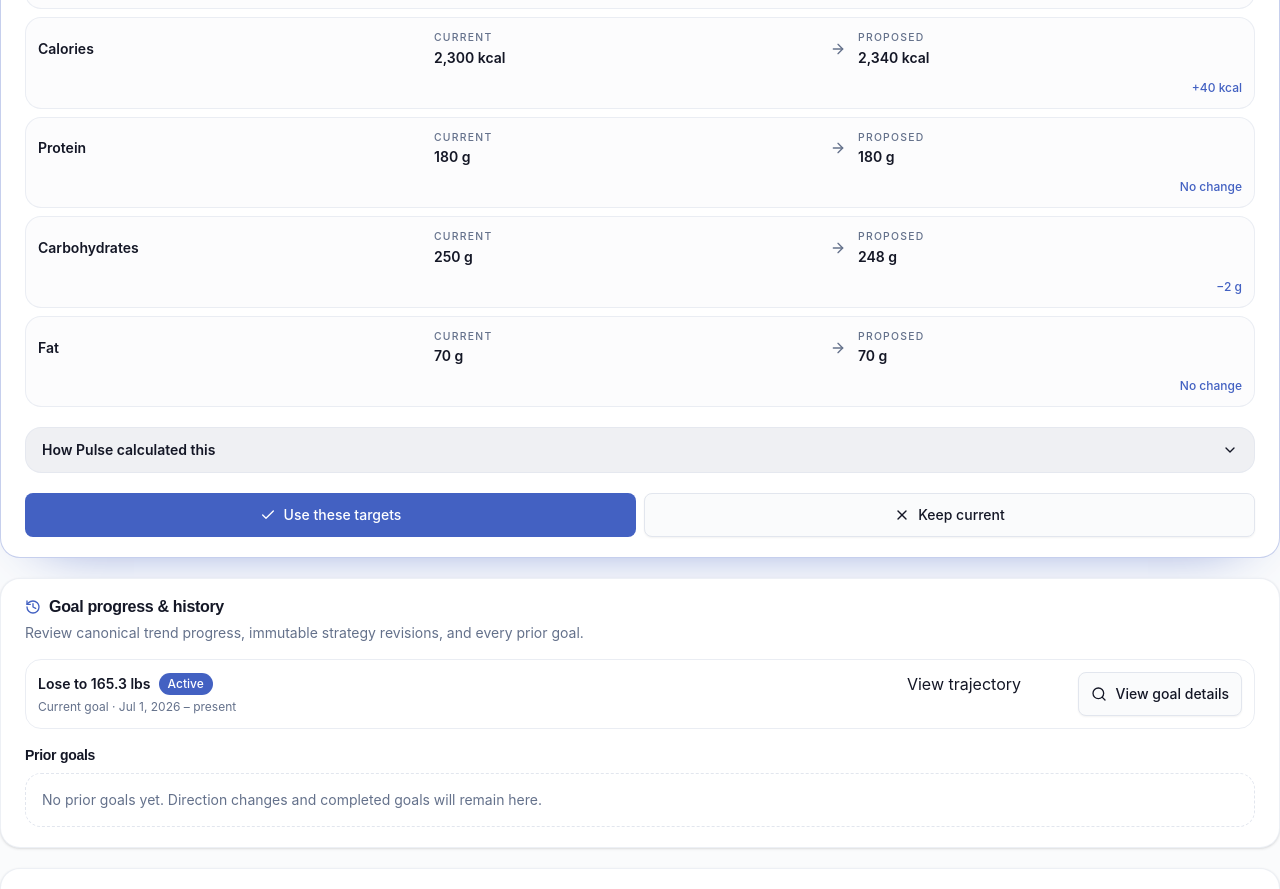
Test: AdaptiveCoach › discloses a manual baseline without inventing equation inputs
(page scrolled)
Click the heading "How Pulse calculated this": (129, 450) top-left (42, 441), bottom-right (1238, 458)
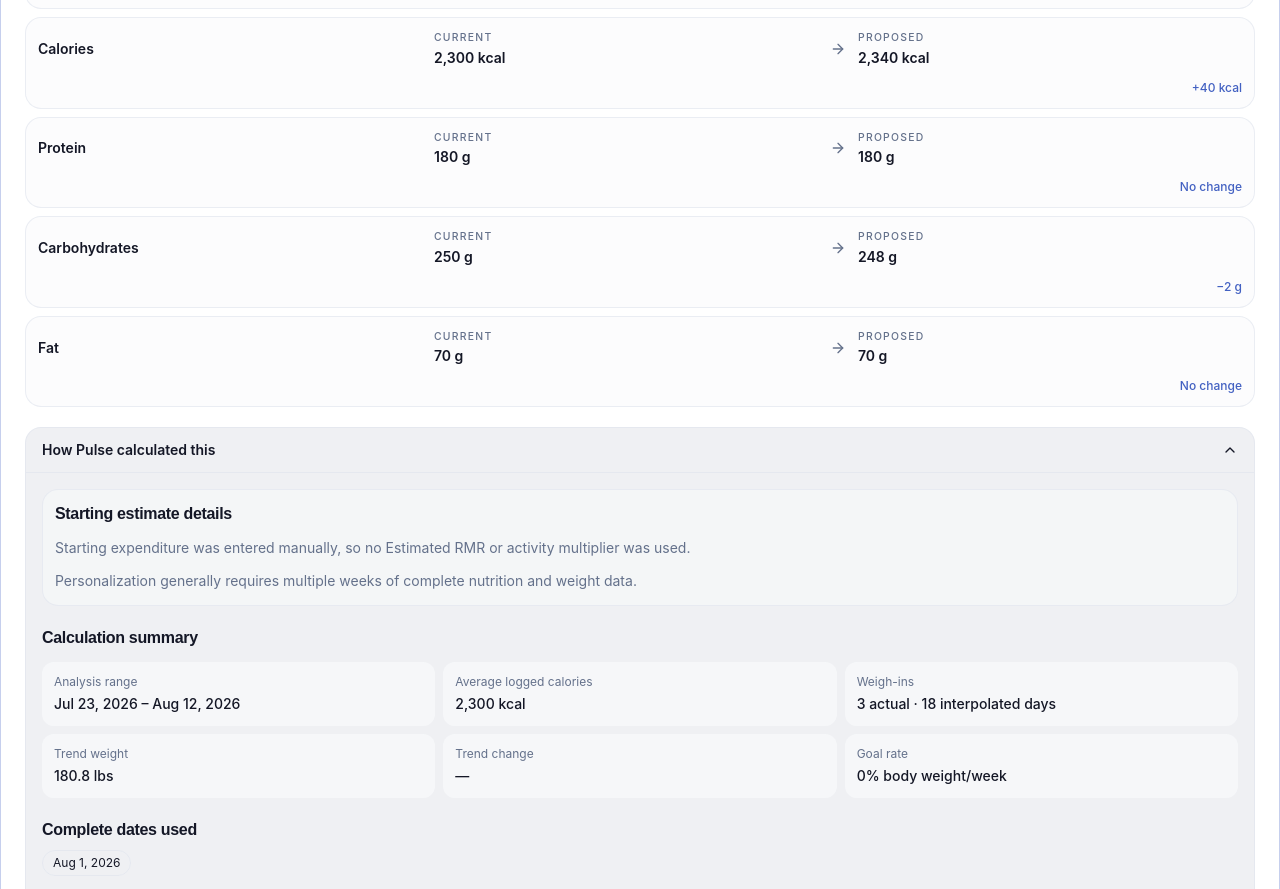
Result: the text "Starting expenditure was entered manually" is shown at top-left (55, 539), bottom-right (690, 556)
Result: the text "multiple weeks of complete nutrition and weight data" is shown at top-left (55, 572), bottom-right (637, 589)
